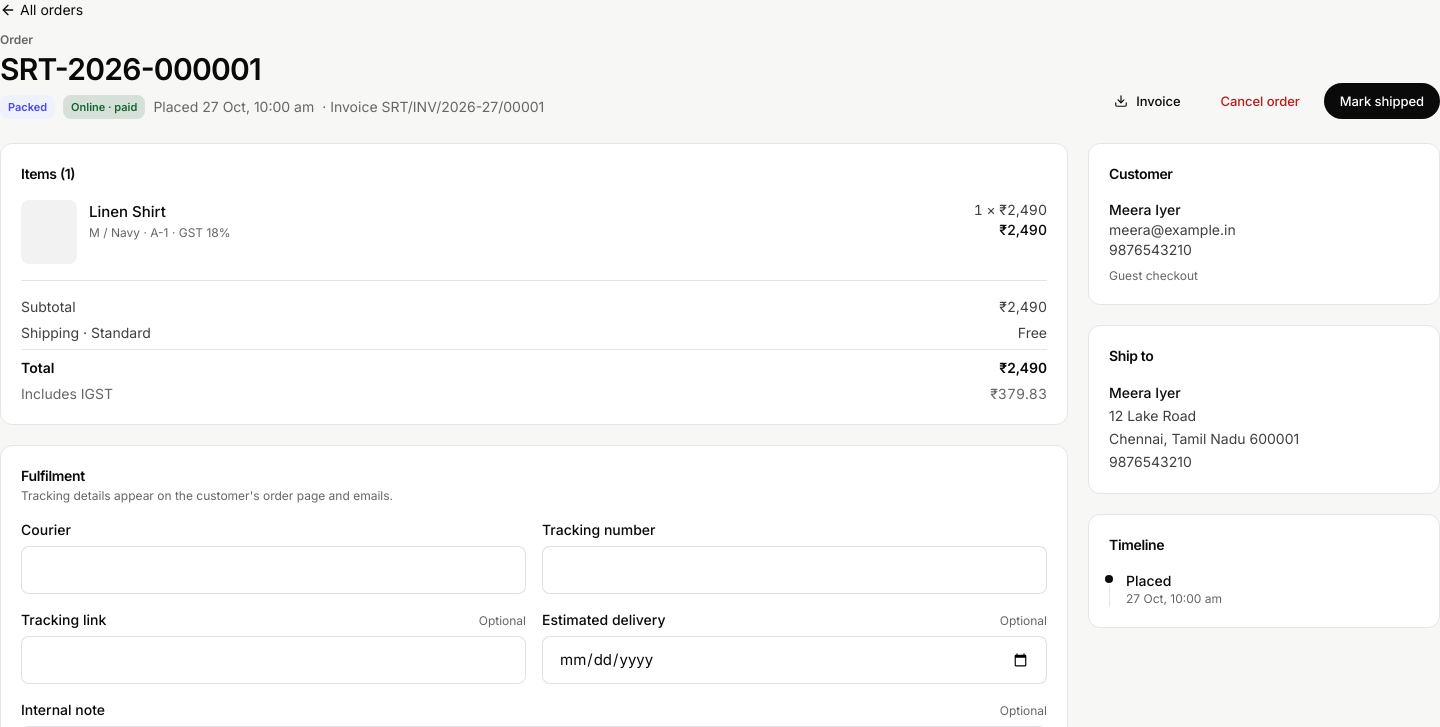
order detail › asks for tracking before marking an order shipped
The image size is (1440, 727).
Click the button "Mark shipped".
click(1382, 101)  # box x1=1324 y1=83 x2=1439 y2=119
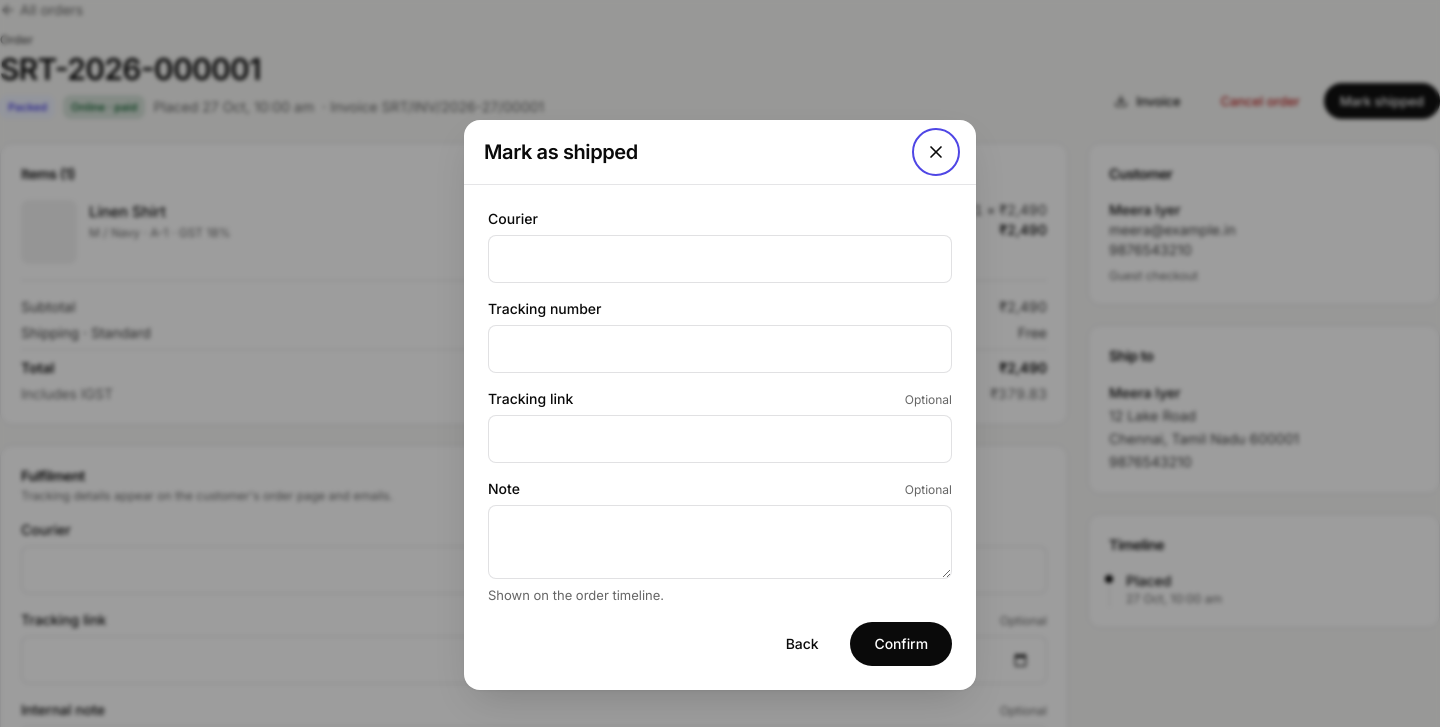
Click the button "Confirm".
click(901, 644)  # box x1=850 y1=622 x2=952 y2=666
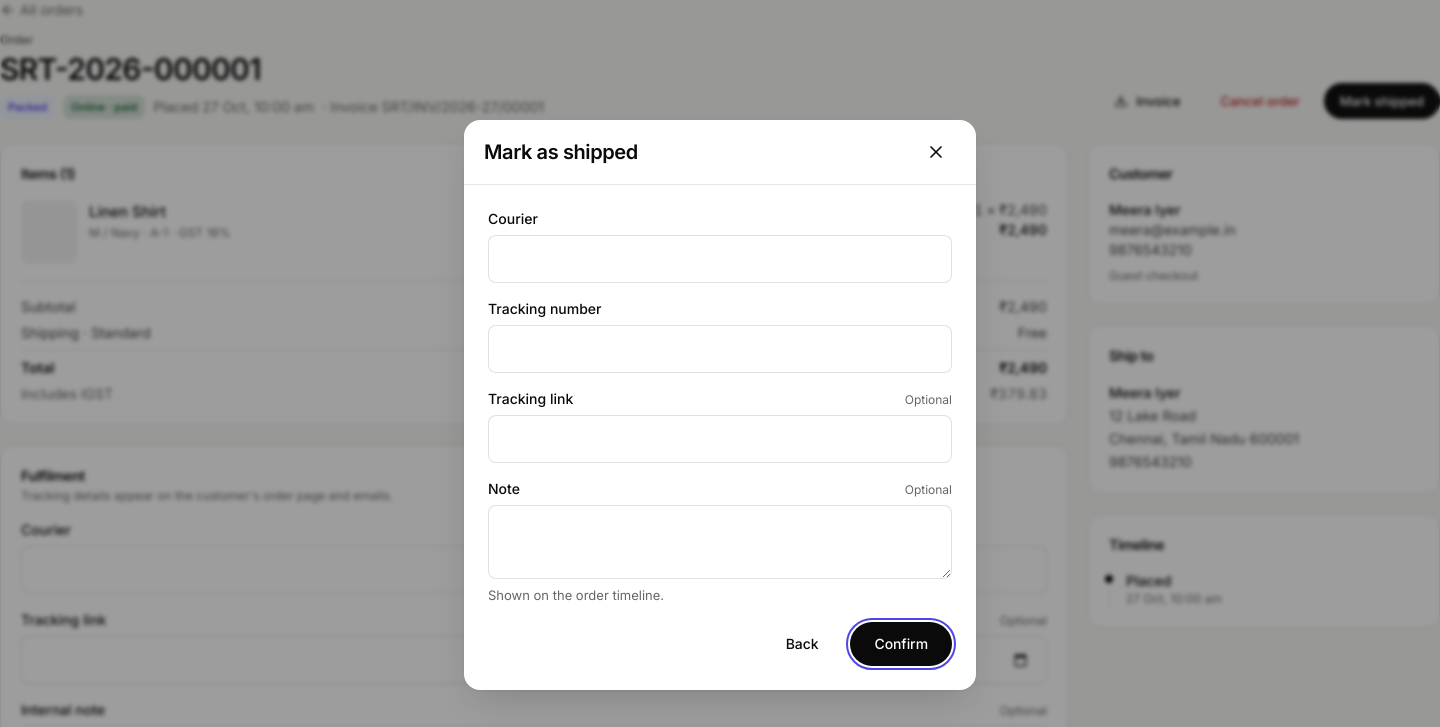
Type "Delhivery" into the field labelled "Courier".
click(720, 259); type("Delhivery")  # box x1=488 y1=235 x2=952 y2=283
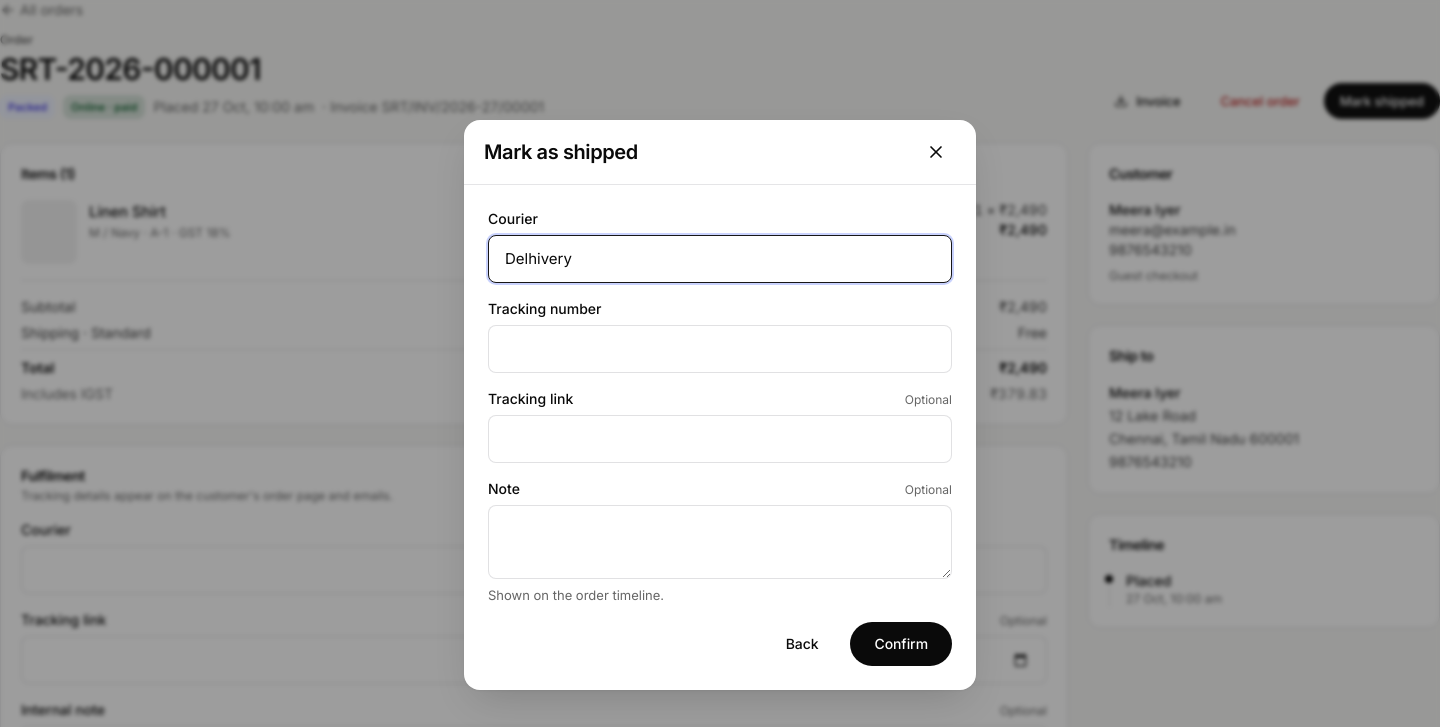
Type "DL123" into the field labelled "Tracking number".
click(720, 349); type("DL123")  # box x1=488 y1=325 x2=952 y2=373
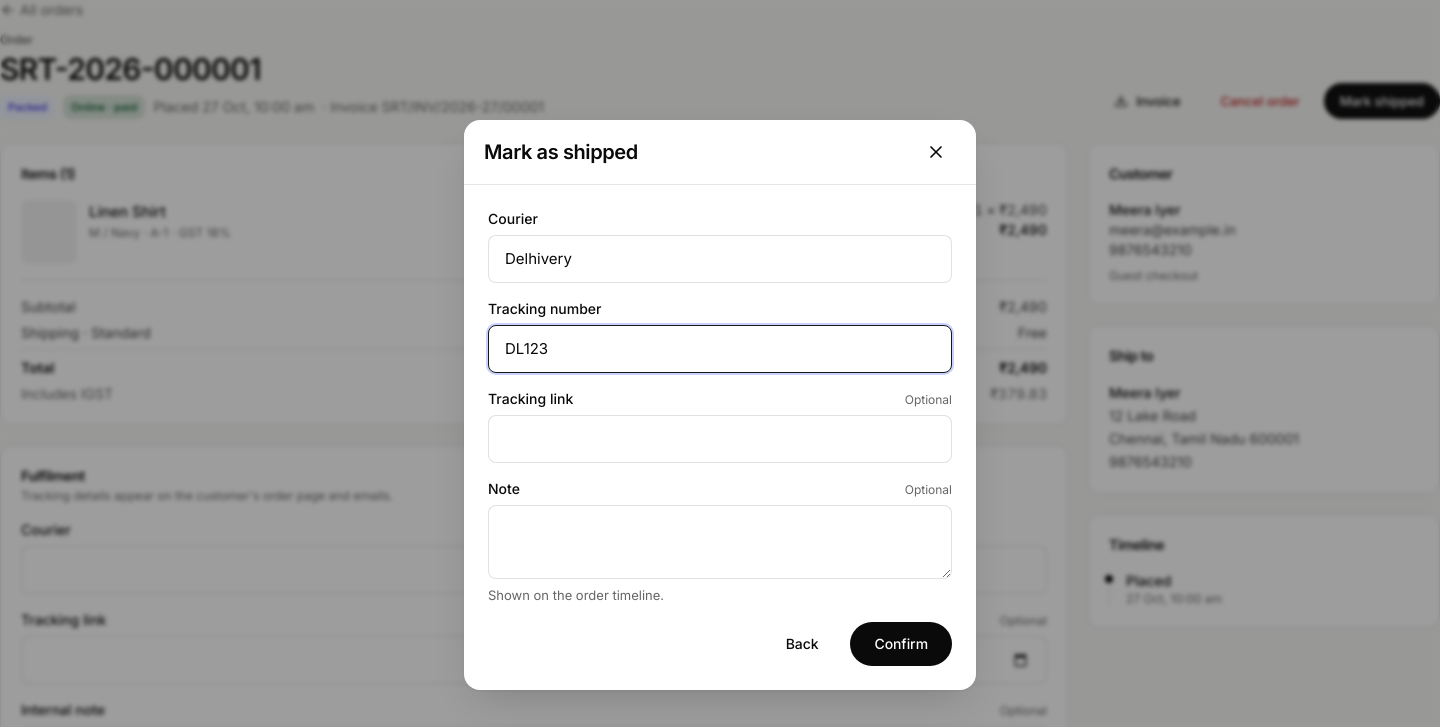
Click the button "Confirm".
click(901, 644)  # box x1=850 y1=622 x2=952 y2=666
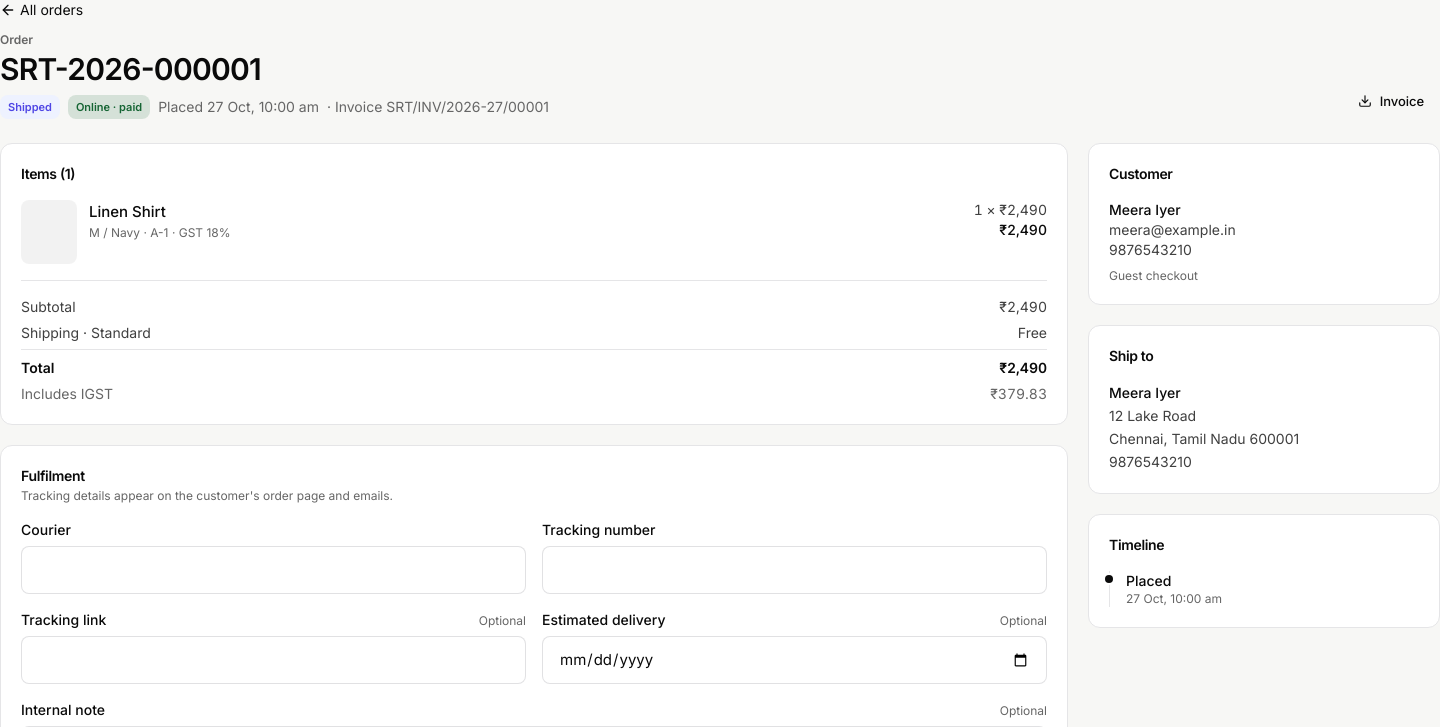
Check: the text "Shipped" is shown, box x1=0 y1=95 x2=60 y2=119
